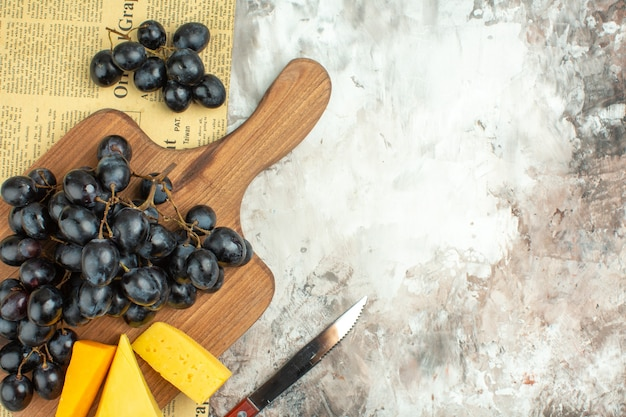knife: (221, 294, 371, 417)
